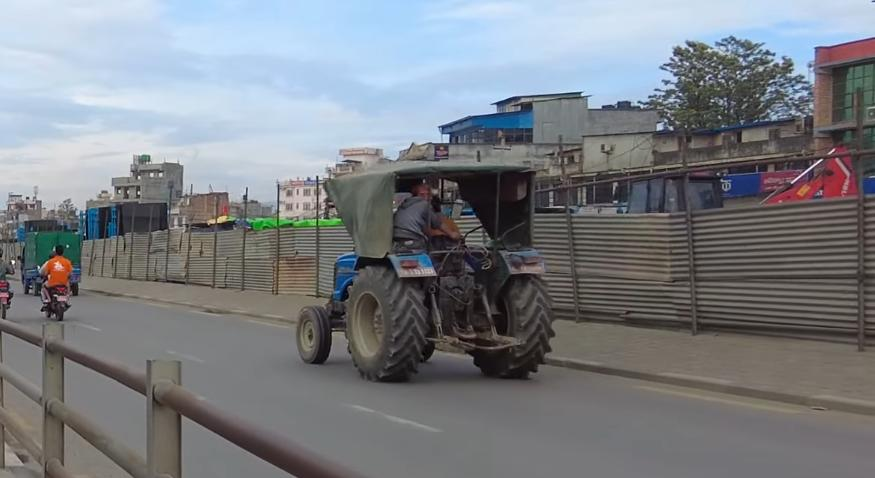bike: (39, 275, 75, 320), (0, 272, 18, 323)
tractor: (291, 157, 563, 393)
